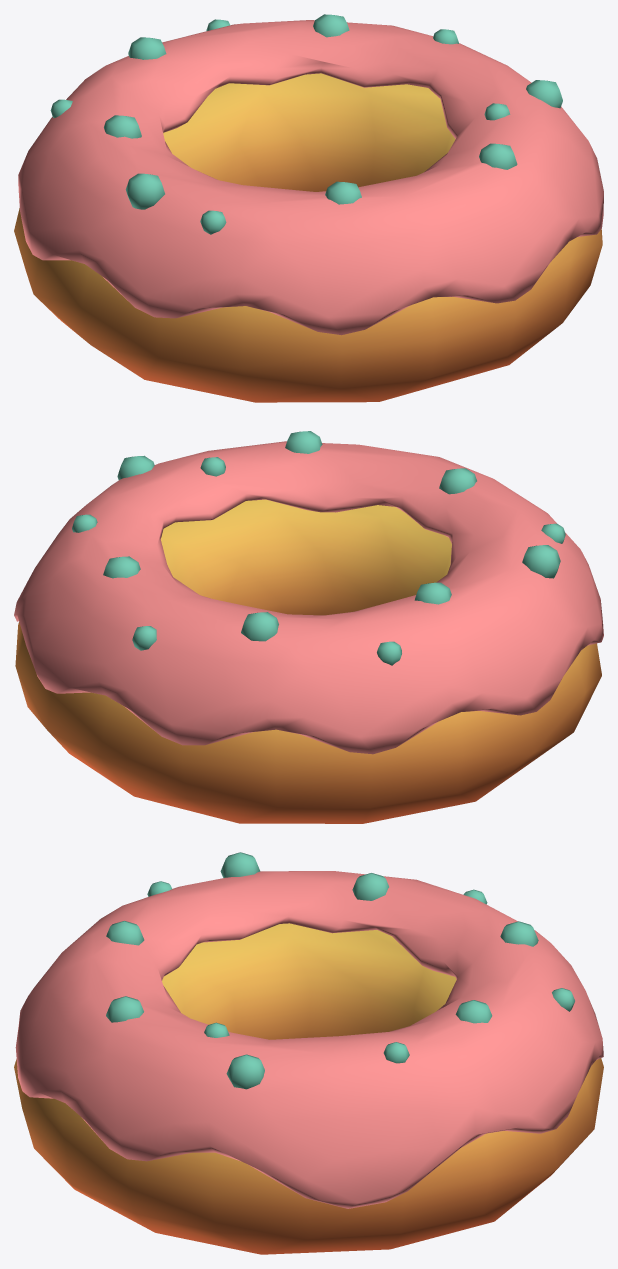
The model's file is Donut-1.fbx.
3 renders of one model, top to bottom at view 1: azimuth 30°, elevation 25°; view 2: azimuth 150°, elevation 25°; view 3: azimuth 270°, elevation 25°, orthographic.
Parts seen in each view (by area): view 1: Donut-1; view 2: Donut-1; view 3: Donut-1.
Boxes of the visible parts, x1=… form: Donut-1: x1=14, y1=14, x2=603, y2=402; Donut-1: x1=14, y1=431, x2=603, y2=823; Donut-1: x1=14, y1=852, x2=603, y2=1254.
Bounding box in the file's own units: 50.32 × 19.68 × 49.97.
